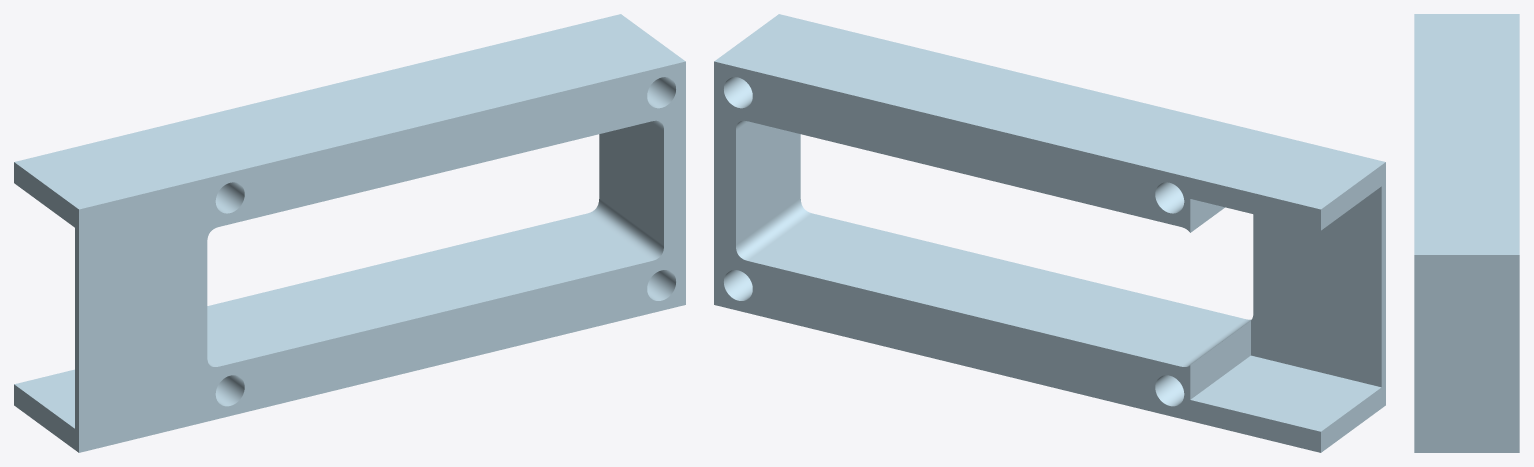
The model's file is Robot_Master Copy 1 - Part 1 (32).gltf.
The picture shows the model from 3 angles, left to right: view 1: azimuth 30°, elevation 25°; view 2: azimuth 150°, elevation 25°; view 3: azimuth 270°, elevation 25°; orthographic projection. The views are drawn at different scales.
Parts seen in each view (by area): view 1: Part 1; view 2: Part 1; view 3: Part 1.
Boxes of the visible parts, x1,y1,x2,y2 form: Part 1: [14, 14, 685, 452]; Part 1: [714, 14, 1385, 452]; Part 1: [1414, 14, 1519, 452].
Size of the model in its own units: 0.0502 by 0.0193 by 0.0093.
